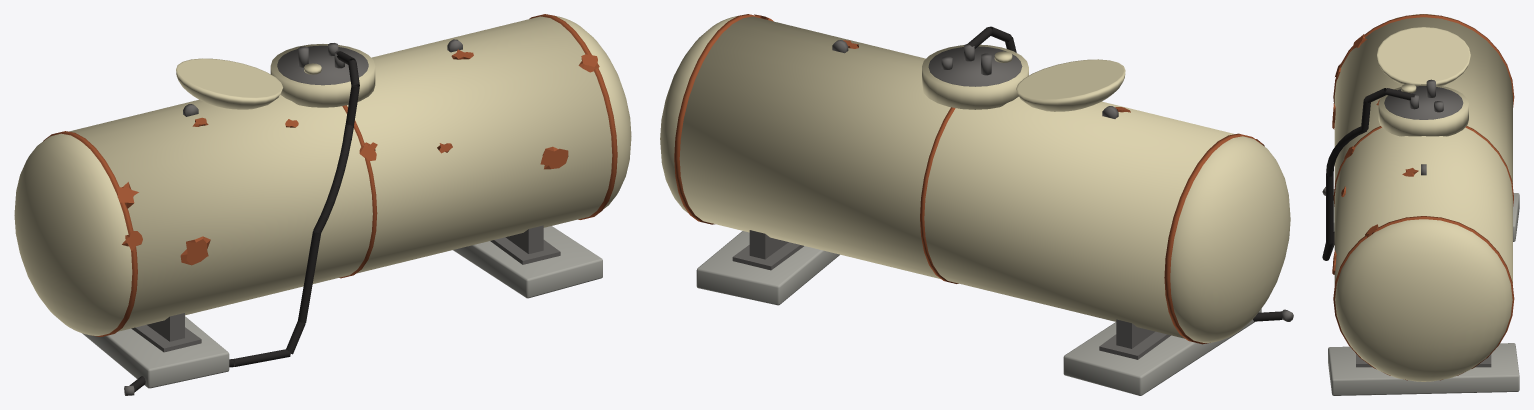
File: propane.glb
3 renders of one model, left to right at view 1: azimuth 30°, elevation 25°; view 2: azimuth 150°, elevation 25°; view 3: azimuth 270°, elevation 25°, orthographic. The views are drawn at different scales.
Parts seen in each view (by area): view 1: shell, head_-1, pad_1, pad_-1, dome_lid, hose, head_1, dome_collar, dome_well, seam_1, seam_-1, foot_1 (+5 smaller); view 2: shell, head_-1, pad_-1, pad_1, dome_lid, dome_collar, head_1, dome_well, seam_-1, seam_1, seam_mid, foot_-1 (+4 smaller); view 3: shell, head_1, pad_1, dome_lid, dome_collar, hose, dome_well, seam_1, seam_-1, seam_mid, pad_-1, foot_1.
Boxes of the visible parts, bbox=[...] form: shell: bbox=[69, 16, 612, 331]; head_-1: bbox=[14, 133, 132, 335]; pad_1: bbox=[453, 226, 602, 298]; pad_-1: bbox=[82, 316, 229, 388]; dome_lid: bbox=[176, 58, 282, 109]; hose: bbox=[129, 51, 359, 392]; head_1: bbox=[556, 16, 631, 208]; dome_collar: bbox=[270, 44, 375, 107]; dome_well: bbox=[277, 45, 368, 85]; seam_1: bbox=[529, 14, 617, 219]; seam_-1: bbox=[43, 131, 137, 336]; foot_1: bbox=[490, 237, 560, 264]; shell: bbox=[679, 16, 1235, 338]; head_-1: bbox=[1170, 136, 1290, 342]; pad_-1: bbox=[1063, 308, 1261, 395]; pad_1: bbox=[696, 231, 839, 305]; dome_lid: bbox=[1016, 59, 1125, 111]; dome_collar: bbox=[922, 44, 1028, 109]; head_1: bbox=[660, 16, 737, 213]; dome_well: bbox=[928, 46, 1022, 86]; seam_-1: bbox=[1164, 133, 1260, 344]; seam_1: bbox=[674, 14, 760, 224]; seam_mid: bbox=[920, 107, 958, 283]; foot_-1: bbox=[1099, 331, 1170, 359]; shell: bbox=[1334, 17, 1512, 284]; head_1: bbox=[1335, 219, 1512, 381]; pad_1: bbox=[1328, 343, 1519, 395]; dome_lid: bbox=[1377, 27, 1470, 85]; dome_collar: bbox=[1378, 84, 1468, 136]; hose: bbox=[1322, 88, 1414, 260]; dome_well: bbox=[1384, 86, 1463, 119]; seam_1: bbox=[1333, 216, 1514, 380]; seam_-1: bbox=[1333, 14, 1514, 107]; seam_mid: bbox=[1333, 126, 1513, 206]; pad_-1: bbox=[1333, 189, 1519, 241]; foot_1: bbox=[1356, 354, 1491, 367].
Bounding box in the file's own units: 3.02 × 1.27 × 1.05.
